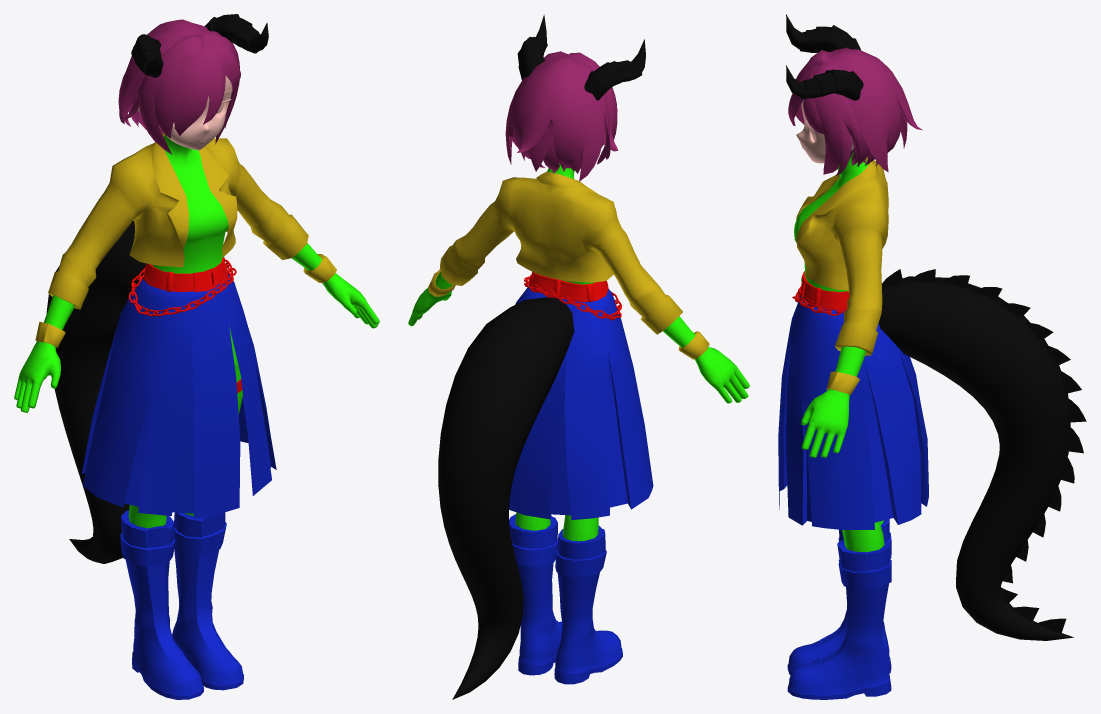
File: cha1.fbx
3 views of the same model, side by side, from view 1: azimuth 30°, elevation 25°; view 2: azimuth 150°, elevation 25°; view 3: azimuth 270°, elevation 25° (orthographic). The views are drawn at different scales.
Parts seen in each view (by area): view 1: clothes_under, coat.frozen, tale, hair, body.frozen, belt, face.frozen; view 2: clothes_under, tale, coat.frozen, hair, body.frozen, belt; view 3: tale, clothes_under, coat.frozen, hair, body.frozen, belt, face.frozen.
Boxes of the visible parts, left/top/right/bottom form: clothes_under: left=81, top=274, right=276, bottom=699; coat.frozen: left=35, top=132, right=336, bottom=347; tale: left=46, top=14, right=268, bottom=563; hair: left=118, top=19, right=240, bottom=154; body.frozen: left=14, top=135, right=379, bottom=528; belt: left=128, top=257, right=242, bottom=393; face.frozen: left=137, top=75, right=232, bottom=150; clothes_under: left=509, top=285, right=653, bottom=684; tale: left=438, top=14, right=645, bottom=699; coat.frozen: left=428, top=172, right=709, bottom=359; hair: left=505, top=51, right=618, bottom=181; body.frozen: left=408, top=163, right=749, bottom=541; belt: left=524, top=271, right=621, bottom=320; tale: left=786, top=14, right=1086, bottom=640; clothes_under: left=778, top=296, right=928, bottom=699; coat.frozen: left=796, top=157, right=888, bottom=395; hair: left=788, top=47, right=922, bottom=175; body.frozen: left=794, top=151, right=884, bottom=552; belt: left=792, top=271, right=849, bottom=315; face.frozen: left=796, top=100, right=853, bottom=163.
Size of the model in its own units: 101 by 78.06 by 179.
